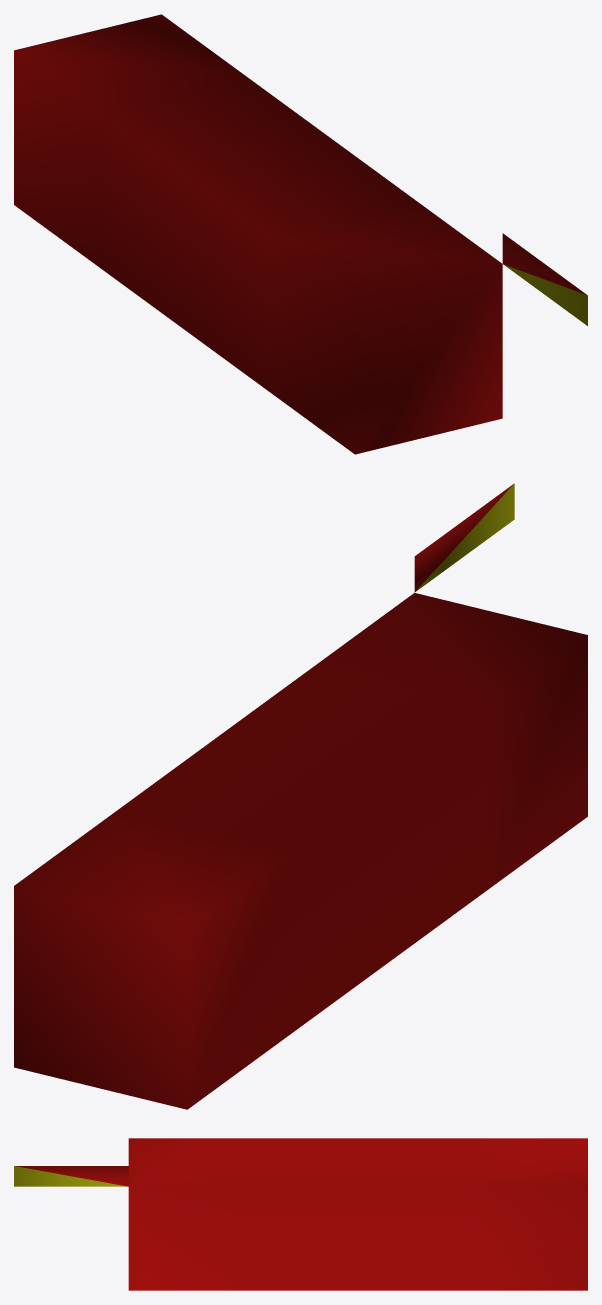
3 views of the same model, one above another, from view 1: azimuth 30°, elevation 25°; view 2: azimuth 150°, elevation 25°; view 3: azimuth 270°, elevation 25° (orthographic). The views are drawn at different scales.
Visible parts, largest first — view 1: default; view 2: default; view 3: default.
Boxes of the visible parts, <box> form: default: <box>14,14,587,454</box>; default: <box>14,483,587,1109</box>; default: <box>14,1138,587,1290</box>.
Size of the model in its own units: 1 by 1.2 by 5.
